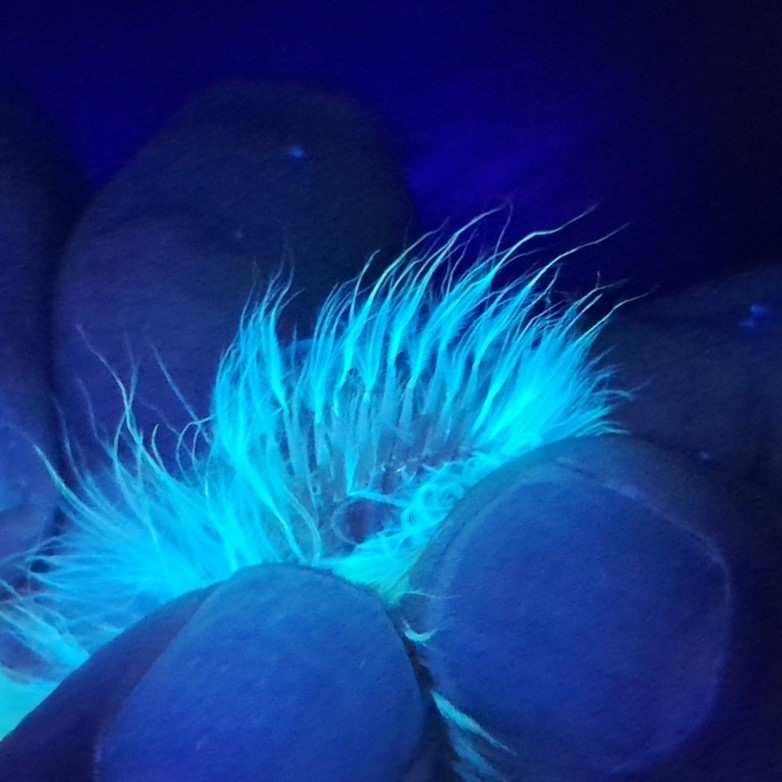male: (265, 338, 522, 559)
